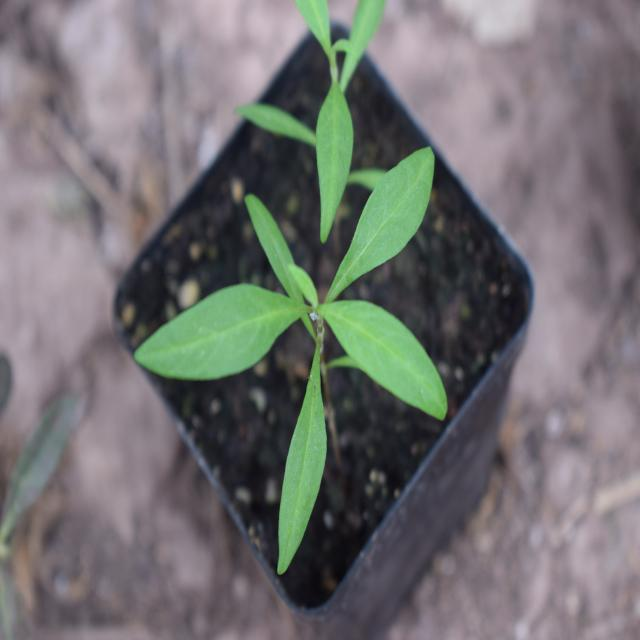white_smart_weed: (154, 146, 476, 569), (209, 0, 409, 239)
